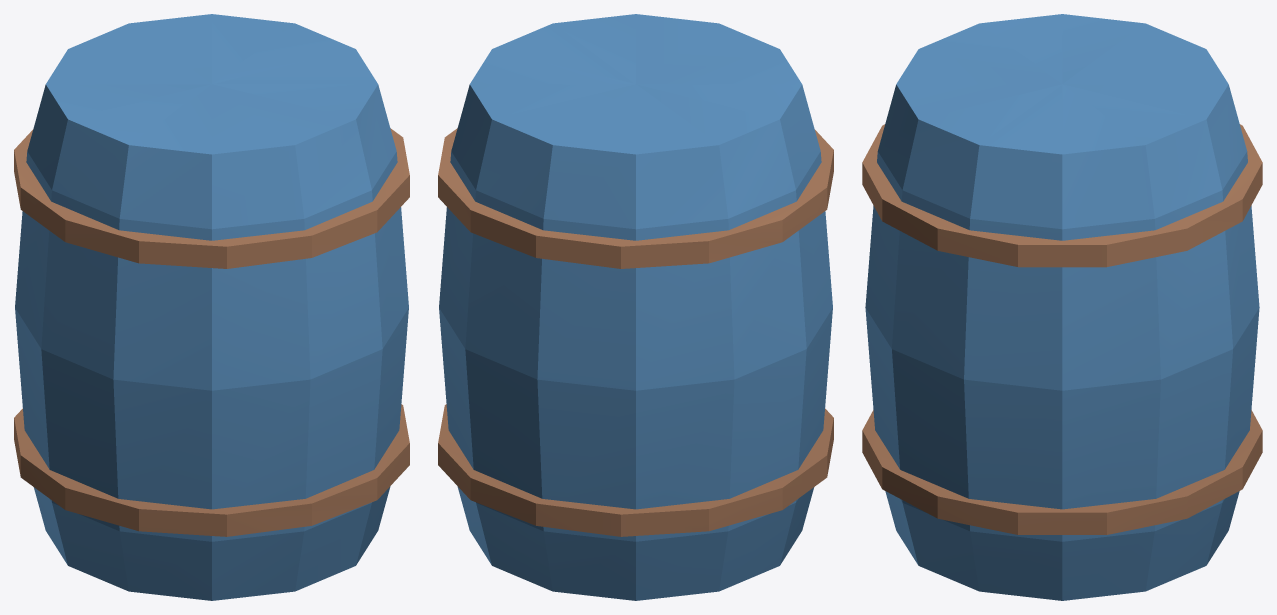
Rendered from barrel.glb.
The picture shows the model from 3 angles, left to right: view 1: azimuth 30°, elevation 25°; view 2: azimuth 150°, elevation 25°; view 3: azimuth 270°, elevation 25°; orthographic projection.
Visible parts, largest first — view 1: barrel; view 2: barrel; view 3: barrel.
Part boxes in pixels (x1,y1,x2,y2): barrel: [14, 14, 409, 600]; barrel: [438, 14, 833, 600]; barrel: [862, 14, 1262, 600].
Bounding box in the file's own units: 0.64 × 0.8 × 0.65.
